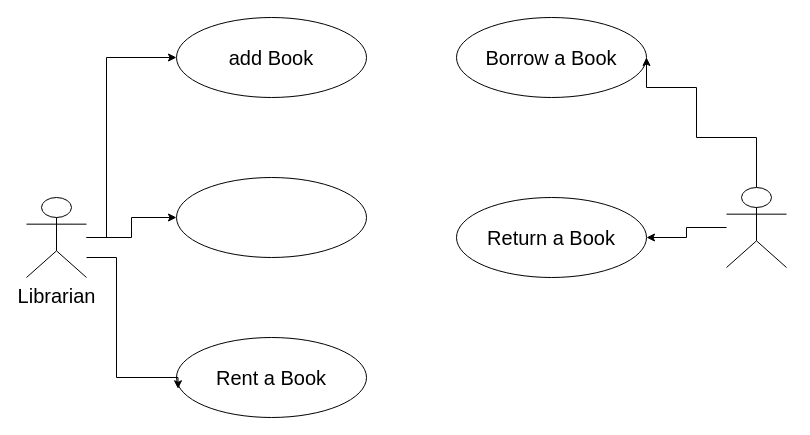
This 810x435 diagram has some shape labels left out. Each missing label, with the centre of its shape:
"Member" goes at (756,227).
"remove Book" goes at (271,217).
